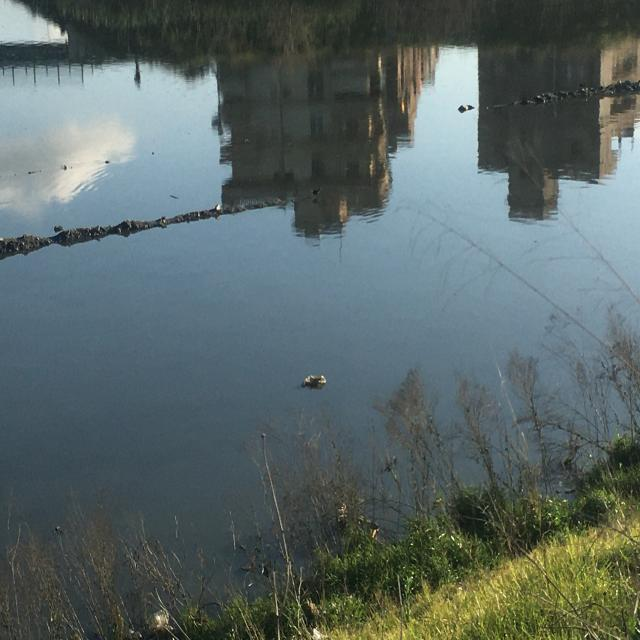Plastic bag: (302, 371, 326, 391)
